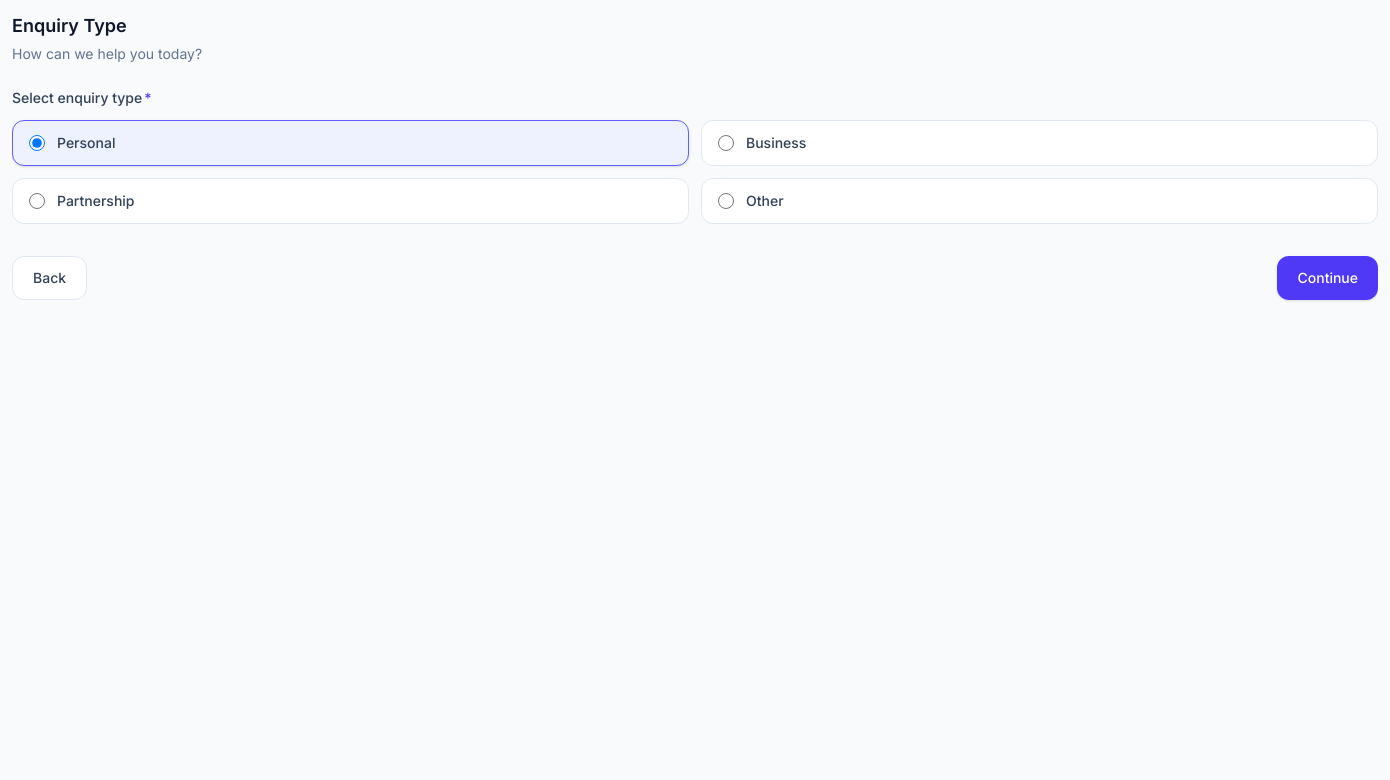
Step2EnquiryType conditional fields › hides company fields for Personal enquiry type
The width and height of the screenshot is (1390, 780).
Step 1. Click the radio button labelled "Business" → (726, 143), box [718, 135, 734, 151]
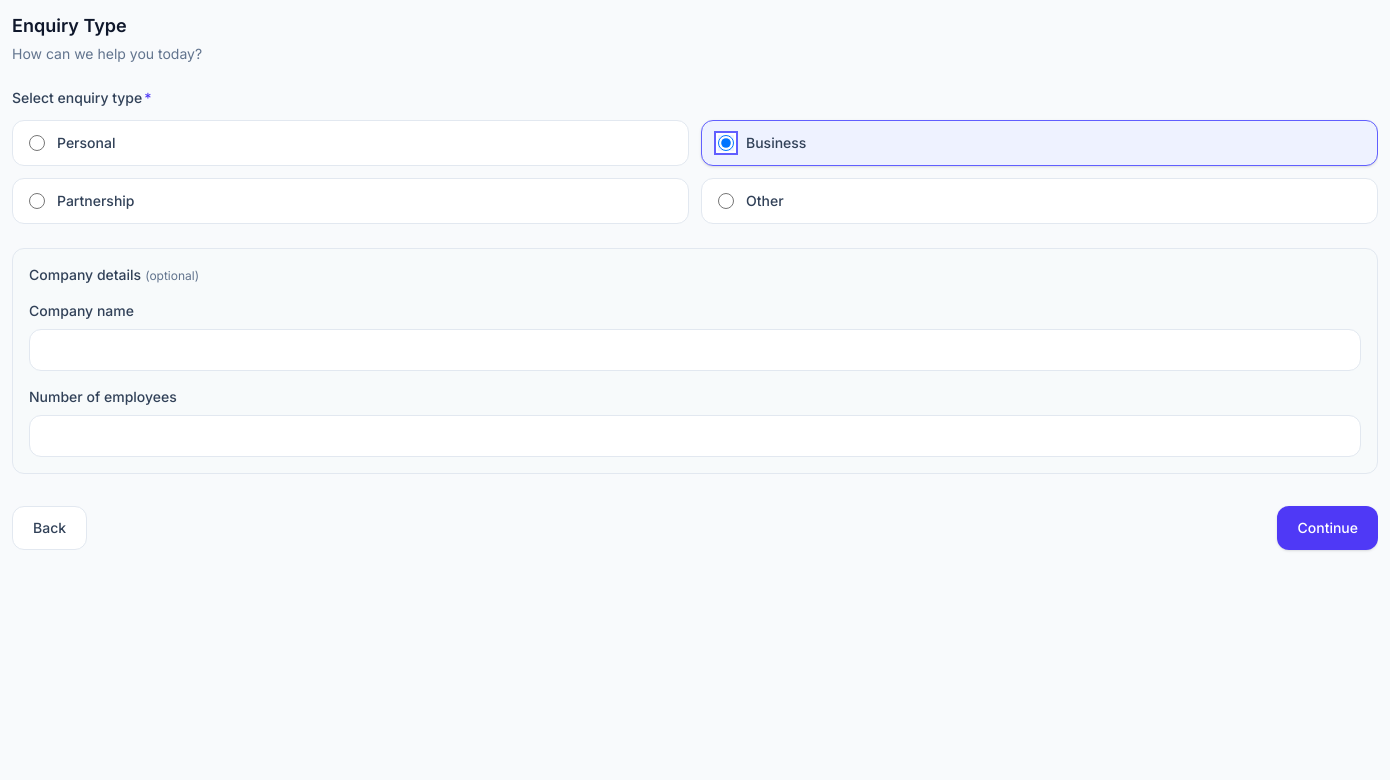
Expected: the element with test id "company-fields" is shown, [12, 248, 1378, 474]
Step 2. Click the radio button labelled "Personal" → (37, 143), box [29, 135, 45, 151]
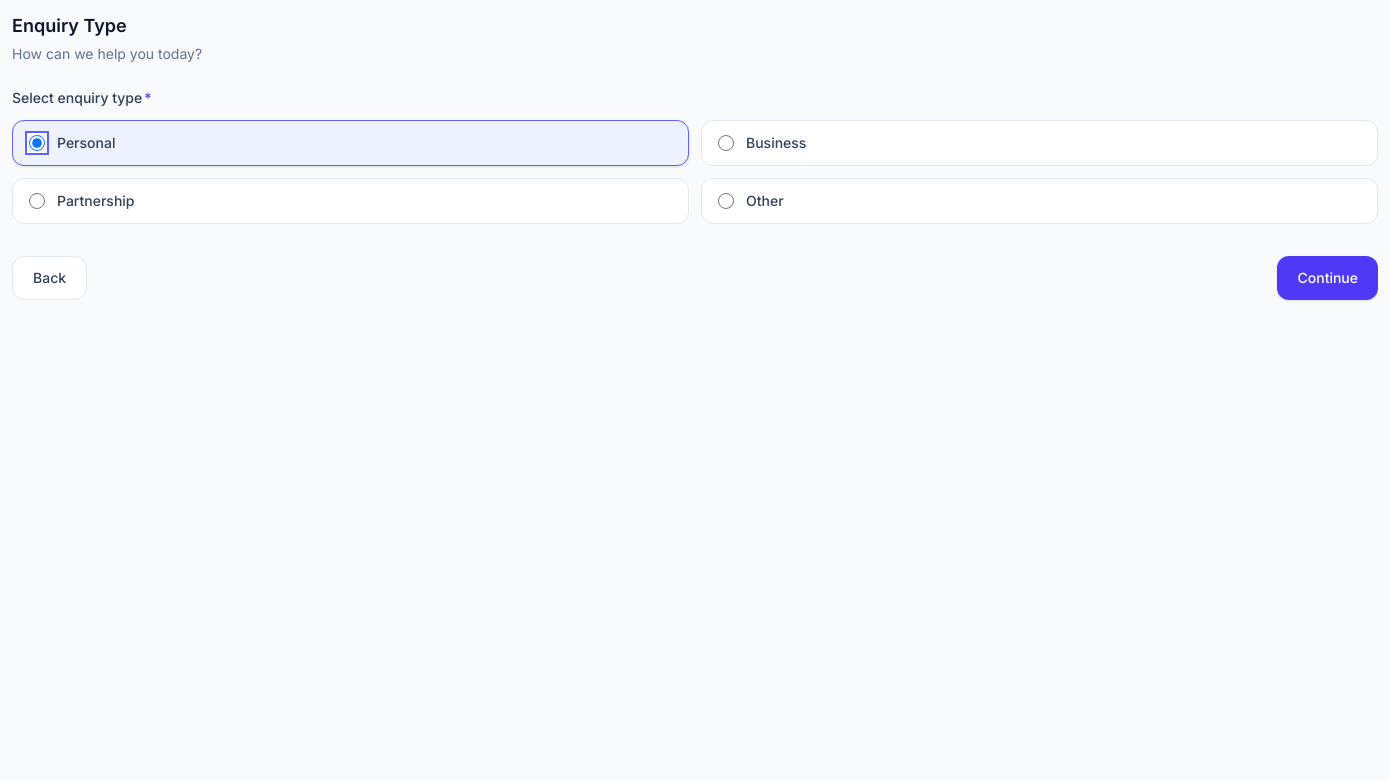
Expected: the element with test id "company-fields" is gone
